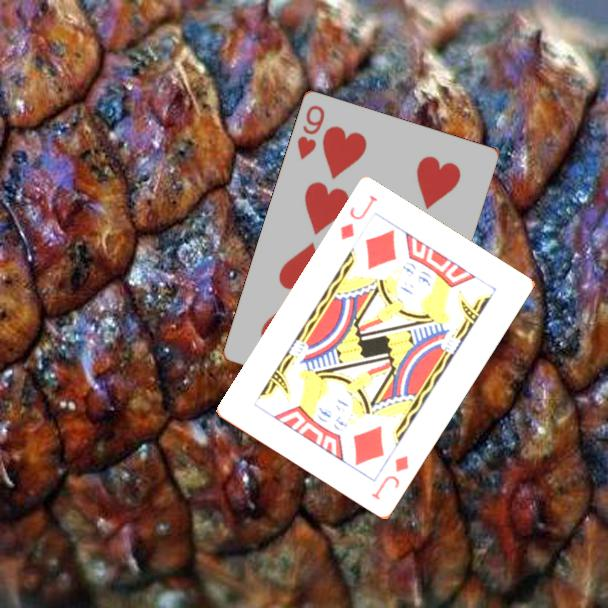d11: (336, 192, 380, 244), (368, 452, 412, 503)
h09: (294, 102, 328, 163)
